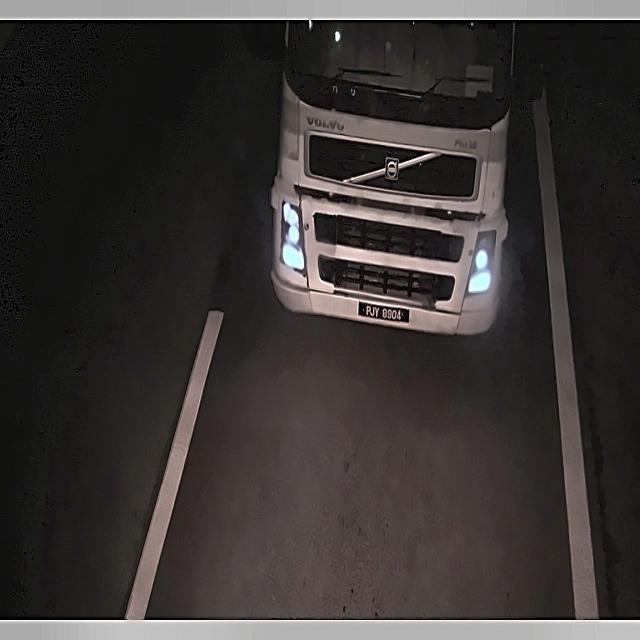car: (354, 295, 413, 329)
